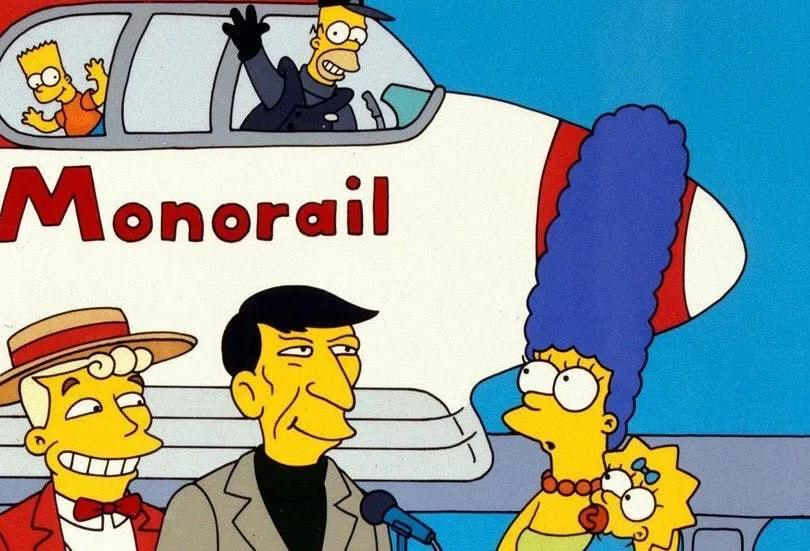Bart: (4, 37, 139, 154)
Homer: (241, 1, 419, 144)
Maggie: (569, 438, 723, 551)
Marge: (518, 65, 683, 551)
